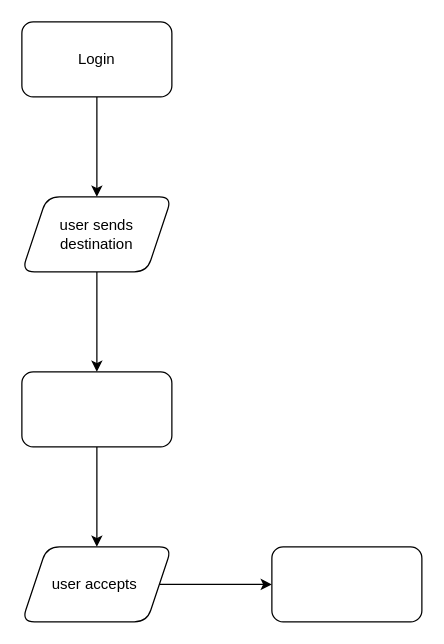
Some shapes in this 444 by 644 pixel diagram are drawn without their labels. The shapes that lost their labels are listed below. From the top down, each one's centre as x and y in pixels, then its label:
At pixel 96 409: "backend sends time and price".
At pixel 346 584: "backend books user and connects to rider".
